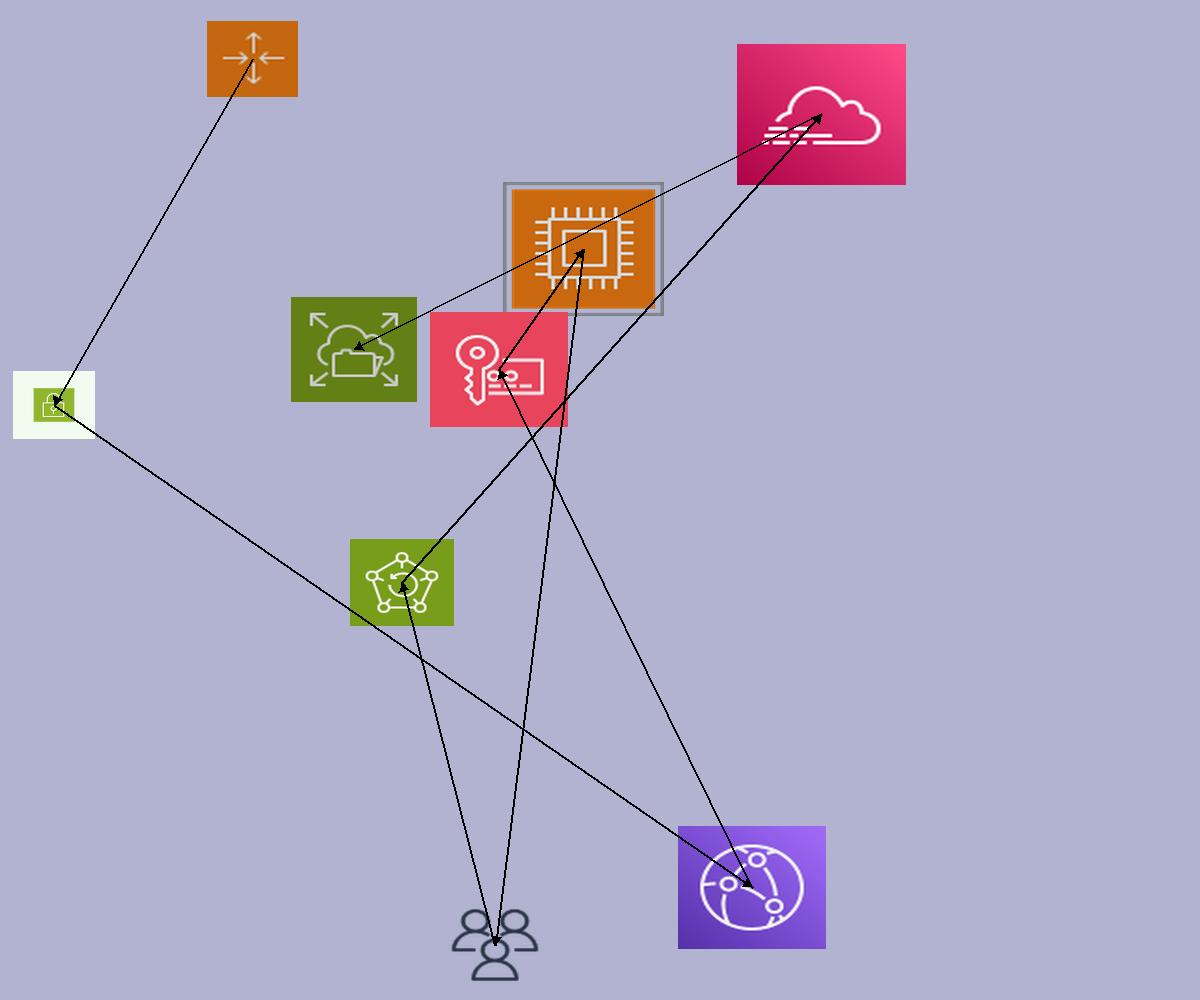AWS-Backup: (350, 539, 454, 626)
AWS-Category_Compute: (503, 182, 664, 316)
AWS-CloudFront: (678, 826, 826, 949)
AWS-CloudTrail: (737, 44, 906, 185)
AWS-EFS: (291, 297, 417, 402)
AWS-Key-Management-Service: (430, 312, 568, 427)
AWS-Public-subnet: (13, 371, 95, 439)
AWS-Res_Users: (448, 906, 542, 984)
AWS-Scaling-group: (207, 21, 298, 97)
